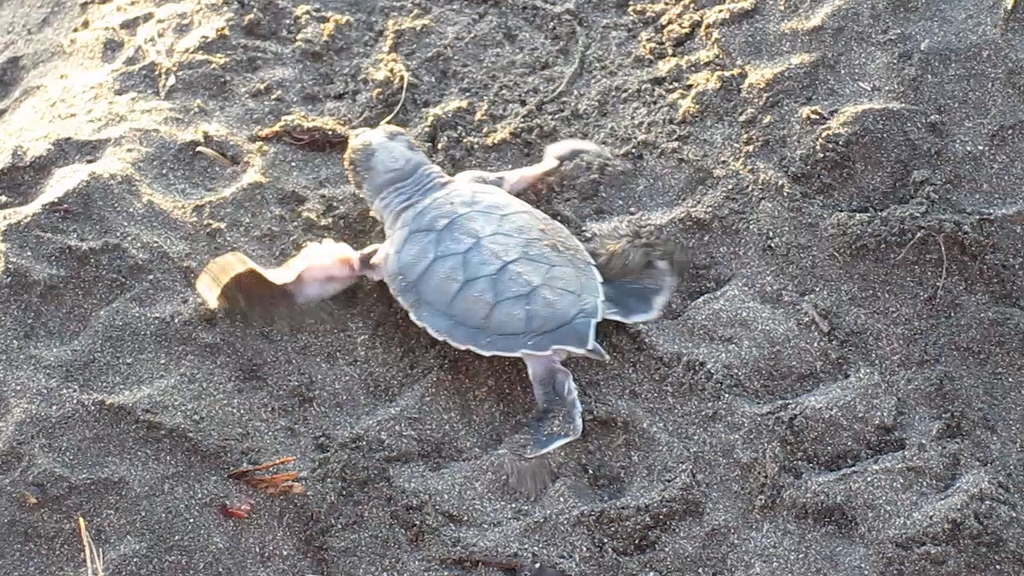Sea turtles: (291, 130, 679, 458)
